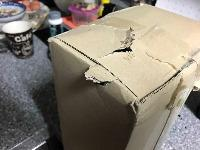damaged package: (109, 27, 139, 57), (84, 63, 113, 90)
undamaged: (42, 0, 198, 148)
